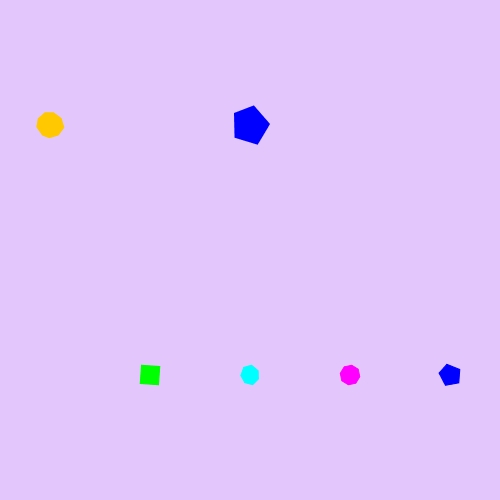heptagon: (236, 361, 265, 389)
nonagon: (32, 108, 68, 142)
octagon: (335, 360, 365, 390)
pentagon: (228, 103, 273, 148), (435, 360, 466, 391)
quadrilateral: (133, 358, 168, 393)
